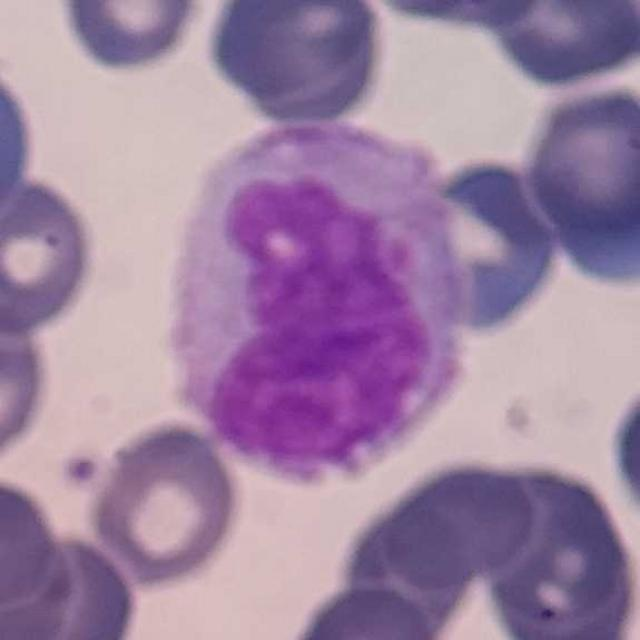Monocyte: (158, 108, 474, 485)
Platelets: (495, 385, 546, 447), (57, 444, 103, 493)
RBC: (398, 148, 571, 346), (85, 415, 247, 591), (192, 0, 398, 135), (517, 74, 640, 293), (494, 508, 629, 640), (0, 172, 104, 340), (0, 526, 144, 640), (331, 514, 477, 620), (473, 0, 637, 92), (48, 0, 212, 80), (274, 580, 456, 639), (0, 468, 69, 616), (0, 296, 57, 472), (0, 43, 42, 240), (367, 0, 550, 31), (605, 388, 640, 503)
